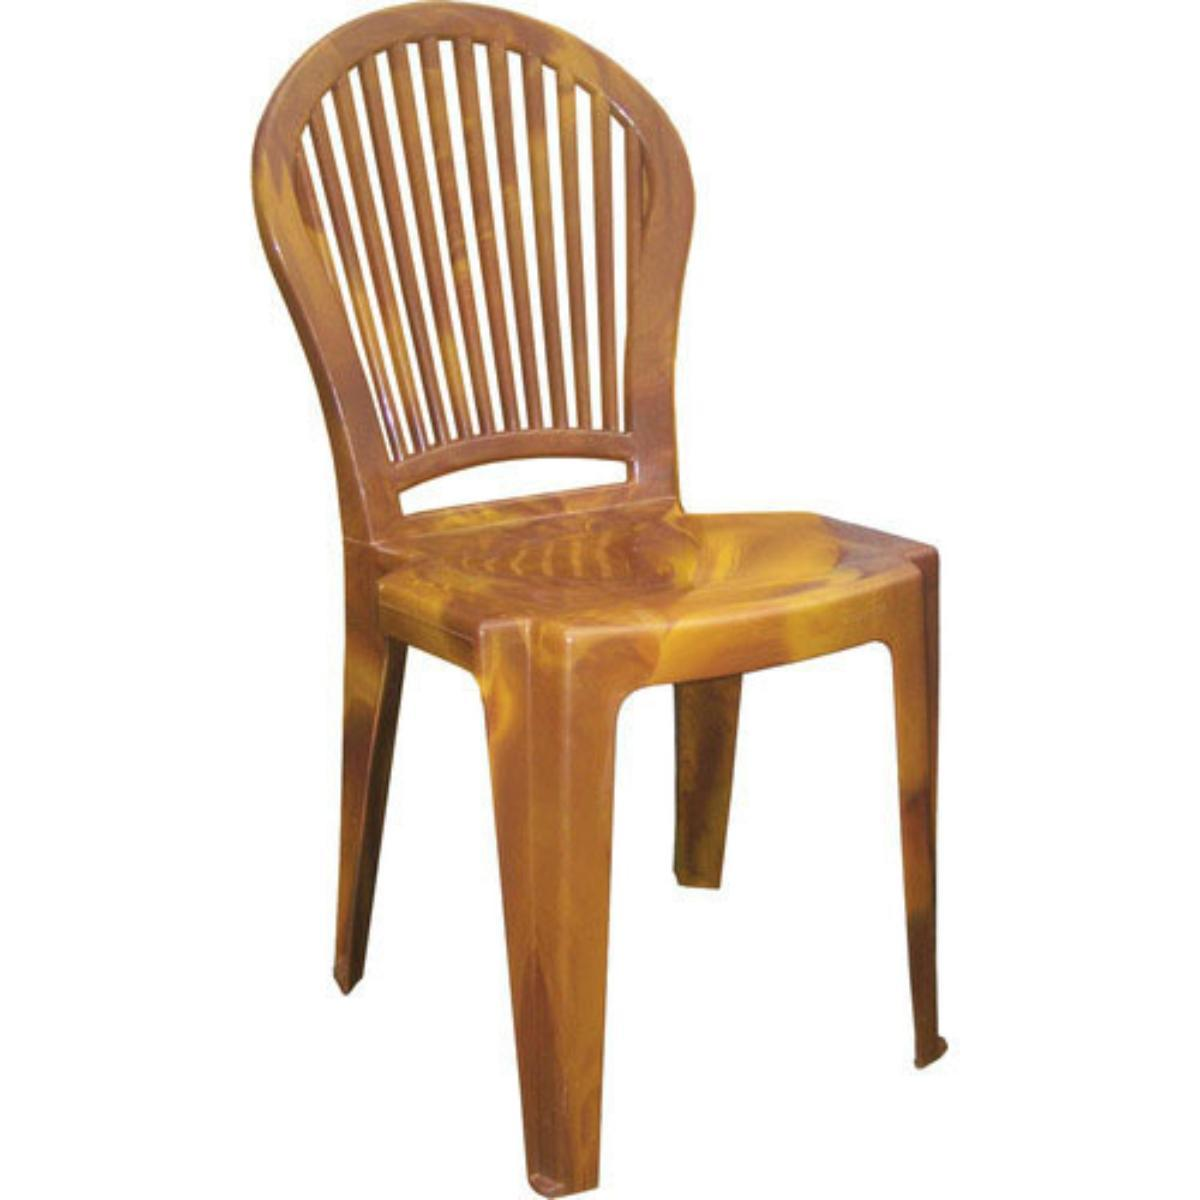Chair: (249, 3, 956, 1198)
